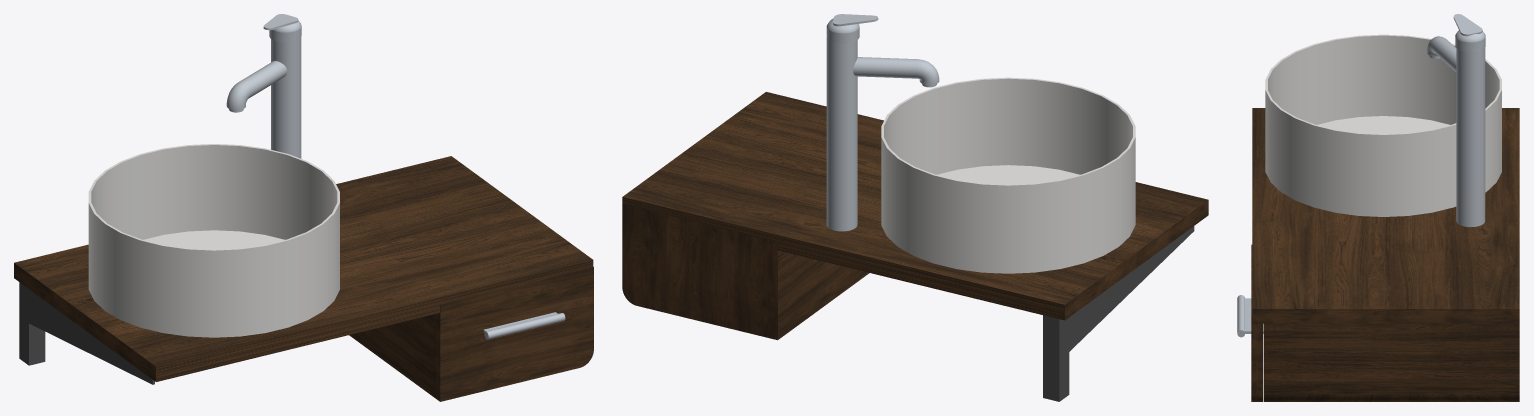
Rendered from A23DMOD_FBX.fbx.
3 renders of one model, left to right at view 1: azimuth 30°, elevation 25°; view 2: azimuth 150°, elevation 25°; view 3: azimuth 270°, elevation 25°, orthographic. The views are drawn at different scales.
Visible parts, largest first — view 1: A23D; view 2: A23D; view 3: A23D.
Boxes of the visible parts, x1,y1,x2,y2 form: A23D: [14, 14, 593, 401]; A23D: [622, 14, 1208, 401]; A23D: [1237, 14, 1519, 401].
Size of the model in its own units: 80 by 54.26 by 47.51.
4 materials, 4 textured.
